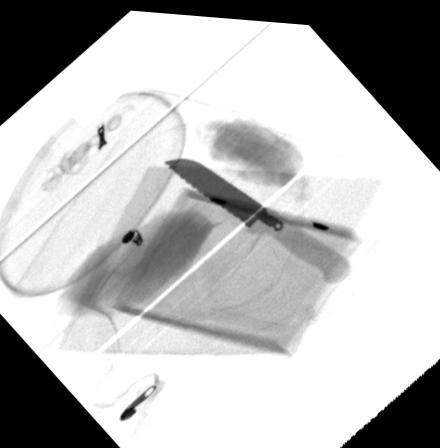Knife: (161, 153, 351, 279)
